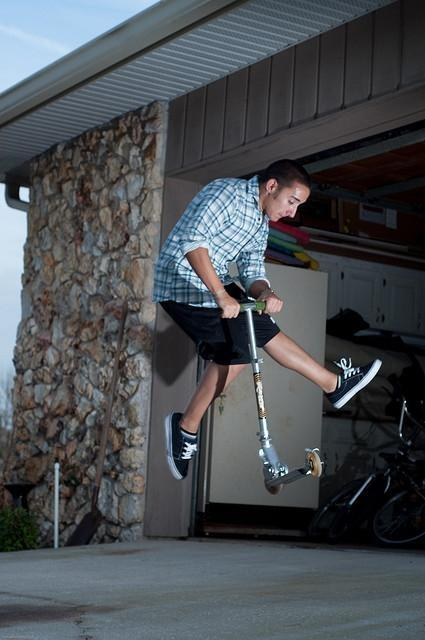bicycle: (311, 447, 425, 545)
